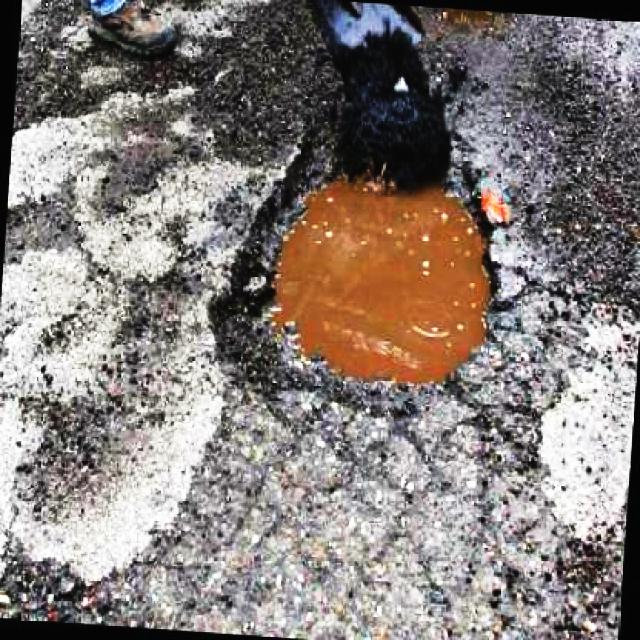pothole: (210, 119, 504, 406)
